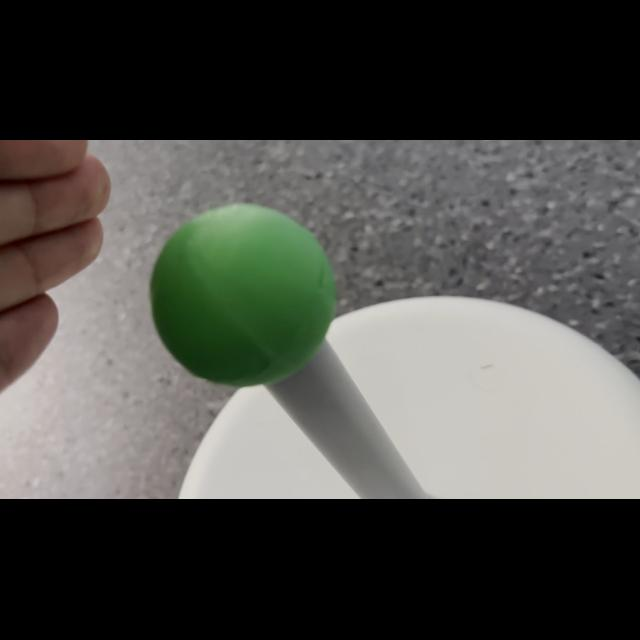objects: (146, 198, 344, 390)
